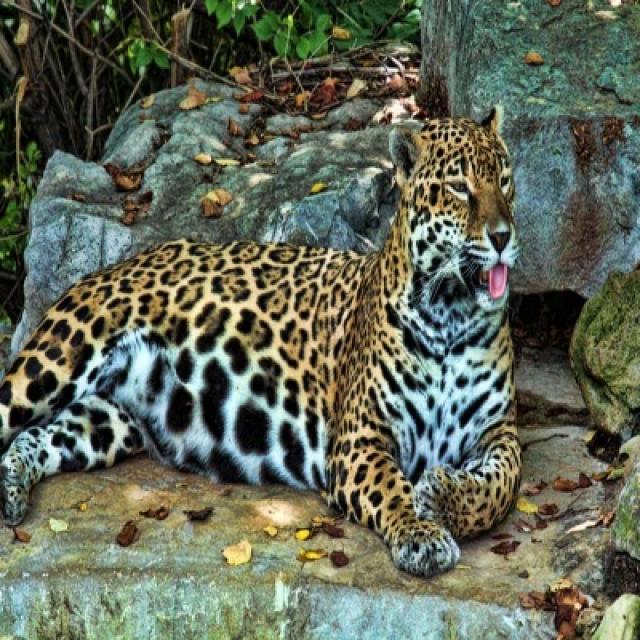Jaguar: (0, 112, 523, 582)
